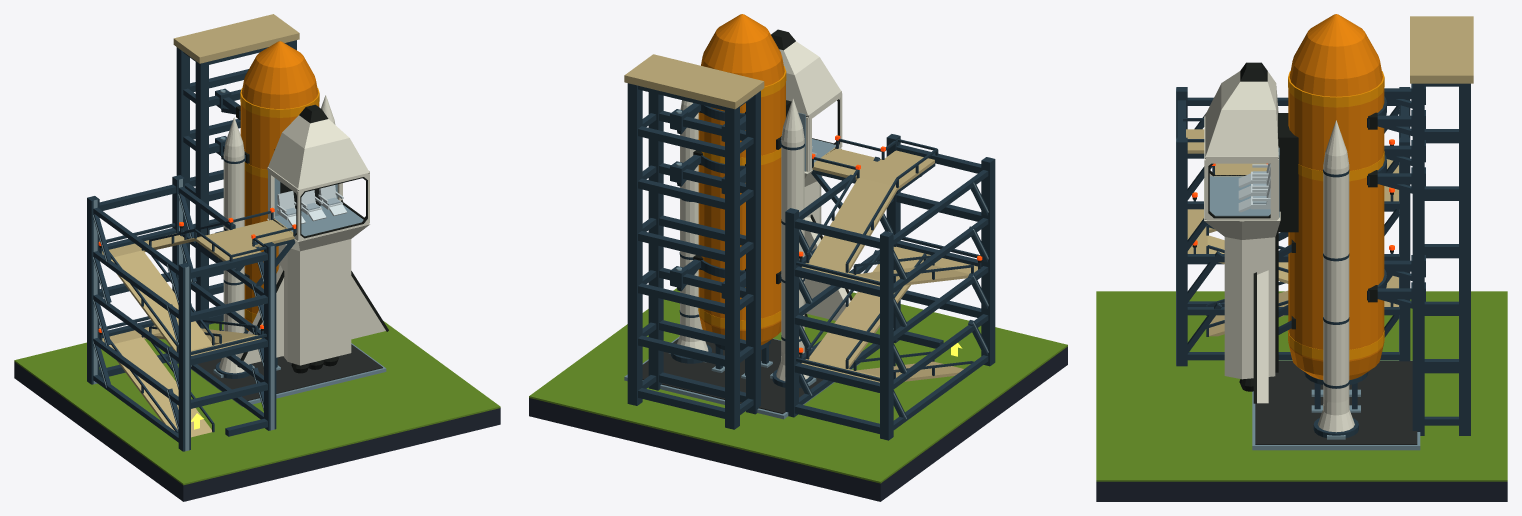
Rendered from Rocket_Map.fbx.
The picture shows the model from 3 angles, left to right: view 1: azimuth 30°, elevation 25°; view 2: azimuth 150°, elevation 25°; view 3: azimuth 270°, elevation 25°; orthographic projection. The views are drawn at different scales.
Visible parts, largest first — view 1: Ground_GrassSurface, Ground_Slab, Orbiter_LowerBody, FuelTank_Main, Cabin_NoseFairing, Service_Cap, Booster_Body_-1, Service_Leg_-0.6_6.8, Launch_Pad_Top, WalkRamp_03, WalkRamp_01, Boarding_ConnectedDeck (+26 smaller); view 2: Ground_GrassSurface, FuelTank_Main, Ground_Slab, Service_Leg_6.6_9.5, Service_Leg_-0.6_9.5, Service_Leg_-0.6_6.8, Service_Cap, WalkRamp_04_Connected, Booster_Body_-1, Service_Leg_6.6_6.8, Launch_Pad_Top, Gantry_Leg_0_1 (+36 smaller); view 3: Ground_GrassSurface, FuelTank_Main, Launch_Pad_Top, Ground_Slab, Booster_Body_1, Orbiter_LowerBody, Cabin_NoseFairing, Service_Leg_6.6_6.8, Service_Cap, Service_Leg_6.6_9.5, Gantry_Leg_1_0, Cabin_DorsalSpine (+17 smaller).
Boxes of the visible parts, x1,y1,x2,y2 form: Ground_GrassSurface: [14, 321, 500, 485]; Ground_Slab: [14, 362, 500, 501]; Orbiter_LowerBody: [278, 239, 351, 365]; FuelTank_Main: [240, 41, 319, 330]; Cabin_NoseFairing: [268, 115, 369, 189]; Service_Cap: [173, 14, 299, 63]; Booster_Body_-1: [219, 117, 248, 373]; Service_Leg_-0.6_6.8: [195, 61, 208, 328]; Launch_Pad_Top: [197, 344, 382, 400]; WalkRamp_03: [111, 250, 211, 351]; WalkRamp_01: [109, 337, 211, 437]; Boarding_ConnectedDeck: [195, 219, 294, 261]; Ground_GrassSurface: [529, 288, 1067, 483]; FuelTank_Main: [698, 14, 785, 345]; Ground_Slab: [529, 346, 1067, 501]; Service_Leg_6.6_9.5: [627, 83, 642, 405]; Service_Leg_-0.6_9.5: [725, 106, 739, 429]; Service_Leg_-0.6_6.8: [746, 91, 760, 414]; Service_Cap: [624, 54, 764, 109]; WalkRamp_04_Connected: [809, 178, 897, 272]; Booster_Body_-1: [776, 99, 809, 381]; Service_Leg_6.6_6.8: [648, 92, 663, 390]; Launch_Pad_Top: [642, 339, 823, 413]; Gantry_Leg_0_1: [880, 231, 893, 440]; Ground_GrassSurface: [1096, 291, 1507, 481]; FuelTank_Main: [1288, 14, 1384, 379]; Launch_Pad_Top: [1255, 361, 1417, 444]; Ground_Slab: [1096, 481, 1507, 501]; Booster_Body_1: [1317, 120, 1354, 432]; Orbiter_LowerBody: [1224, 237, 1275, 379]; Cabin_NoseFairing: [1205, 71, 1278, 158]; Service_Leg_6.6_6.8: [1412, 83, 1424, 435]; Service_Cap: [1410, 16, 1473, 83]; Service_Leg_6.6_9.5: [1459, 83, 1470, 435]; Gantry_Leg_1_0: [1176, 137, 1187, 366]; Cabin_DorsalSpine: [1278, 113, 1298, 232].
Bounding box in the file's own units: 26 × 26.72 × 24.
